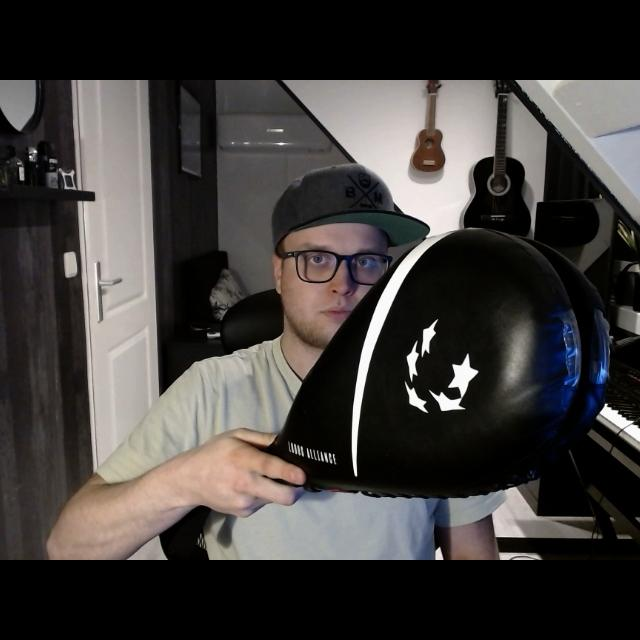paddle: (261, 226, 611, 504)
